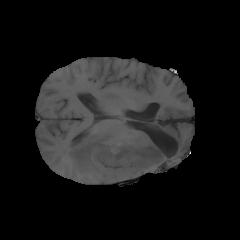glioma: (67, 120, 183, 179)
